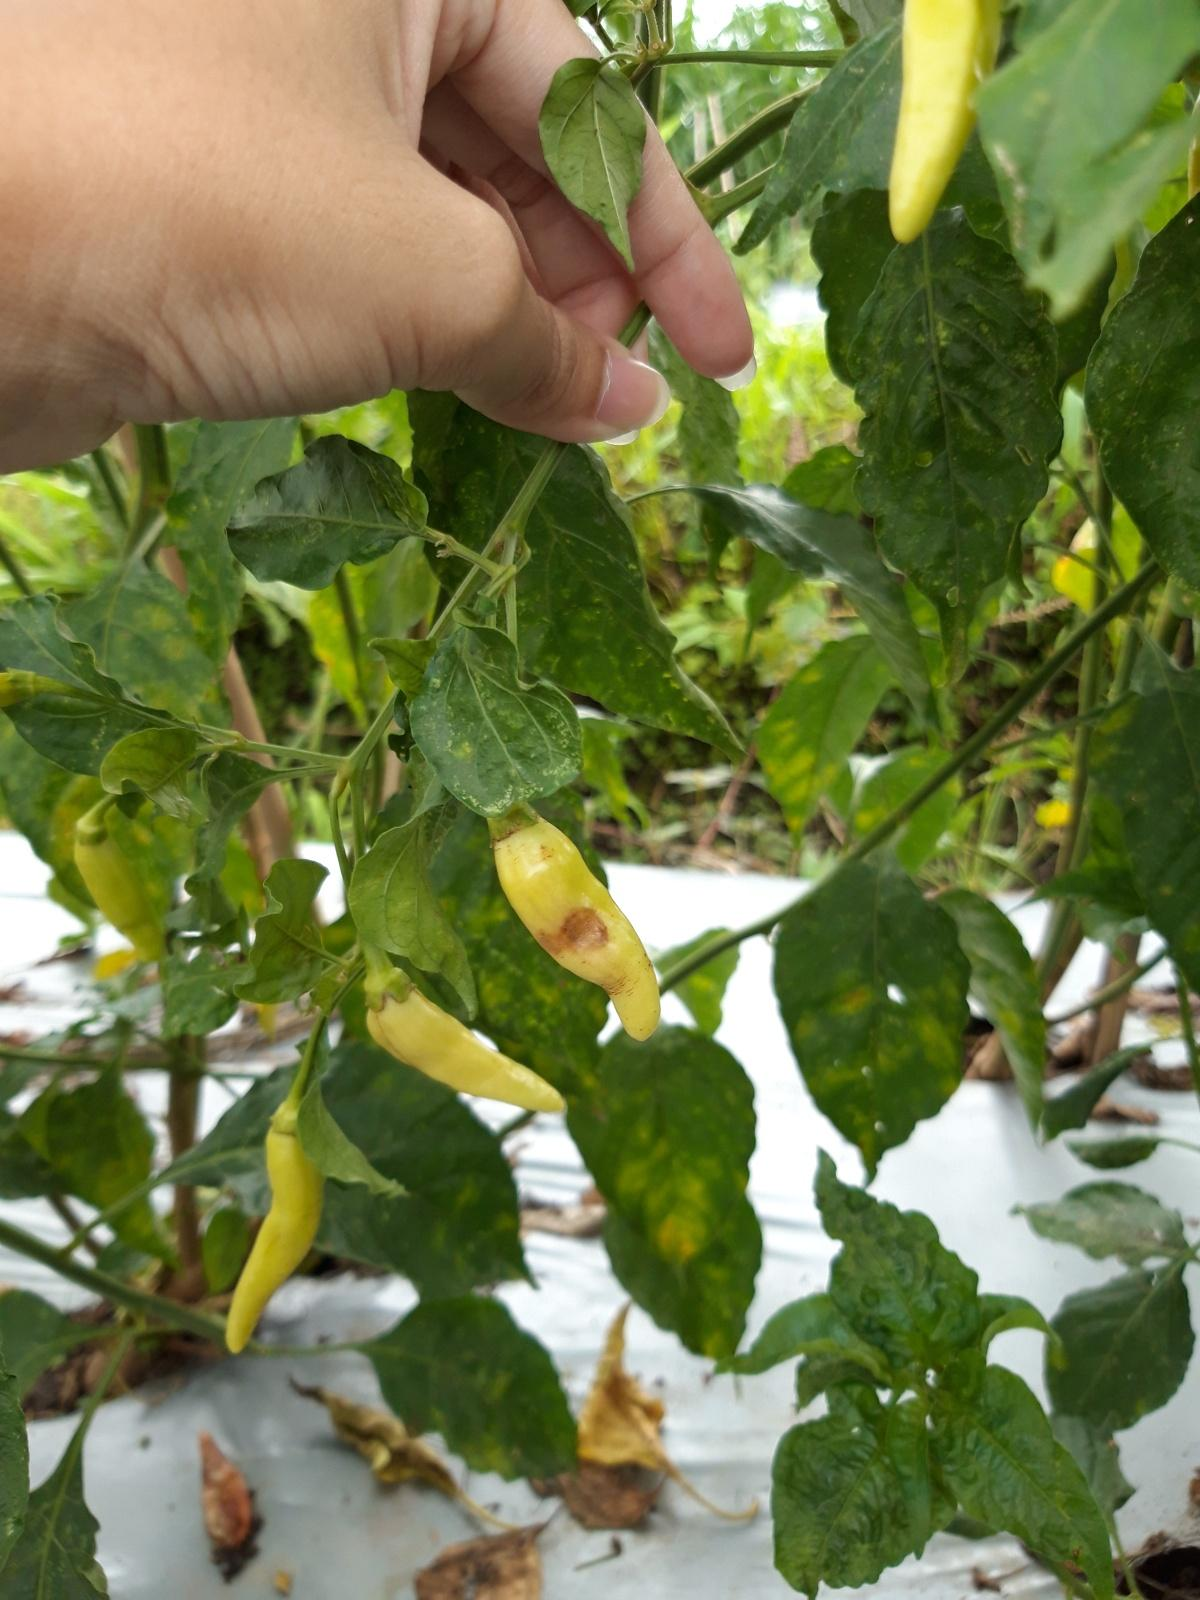cabai_normal: (362, 966, 566, 1112), (888, 0, 1004, 240), (224, 1102, 324, 1354), (74, 817, 167, 960)
lalat_buah: (487, 804, 661, 1040)
